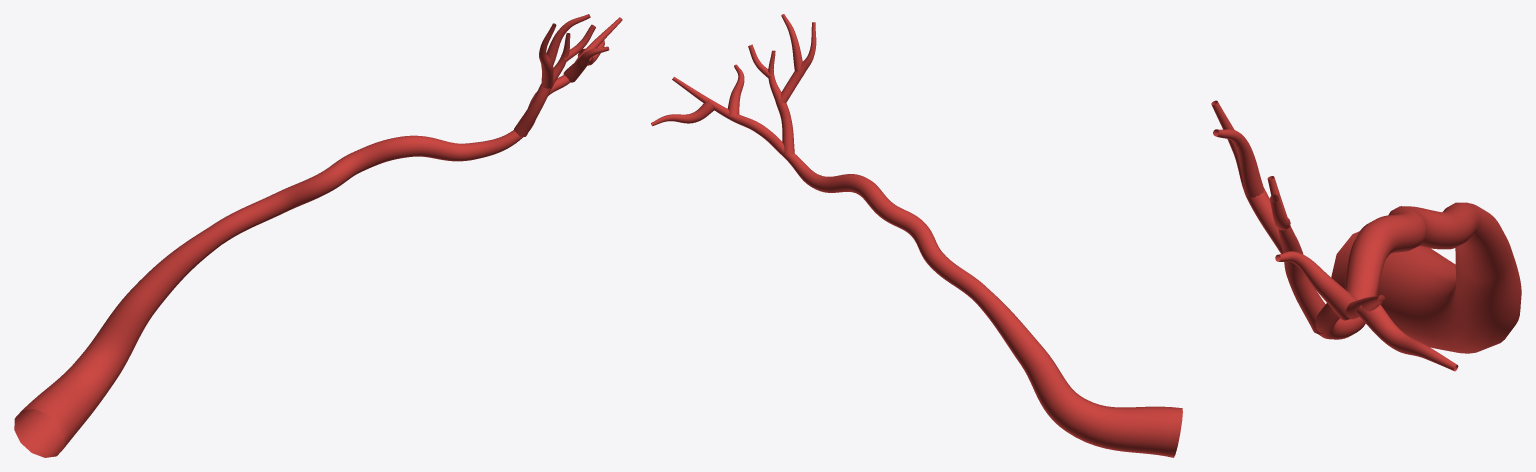
3 renders of one model, left to right at view 1: azimuth 30°, elevation 25°; view 2: azimuth 150°, elevation 25°; view 3: azimuth 270°, elevation 25°, orthographic. The views are drawn at different scales.
Parts seen in each view (by area): view 1: 脾动脉; view 2: 脾动脉; view 3: 脾动脉.
Part boxes in pixels (x1=…): 脾动脉: x1=14, y1=14, x2=622, y2=457; 脾动脉: x1=651, y1=14, x2=1182, y2=457; 脾动脉: x1=1211, y1=100, x2=1521, y2=371.
Size of the model in its own units: 0.1395 by 0.0788 by 0.0361.
